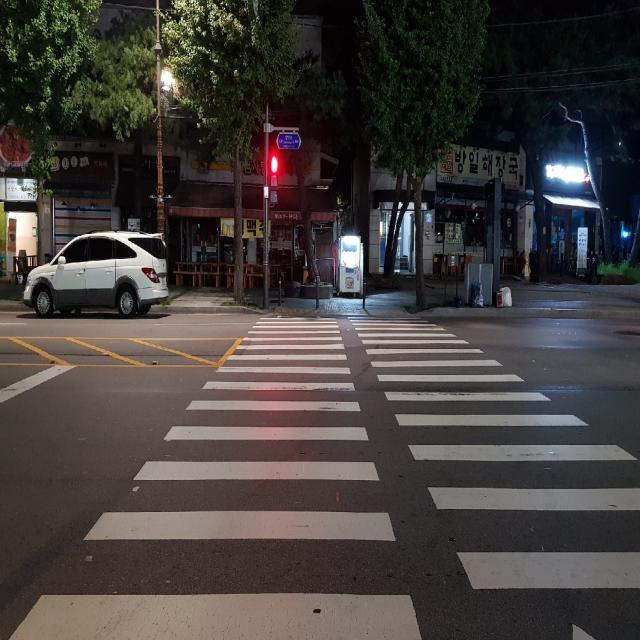빨간불: (269, 155, 279, 205)
횡단보도: (8, 314, 640, 640)
